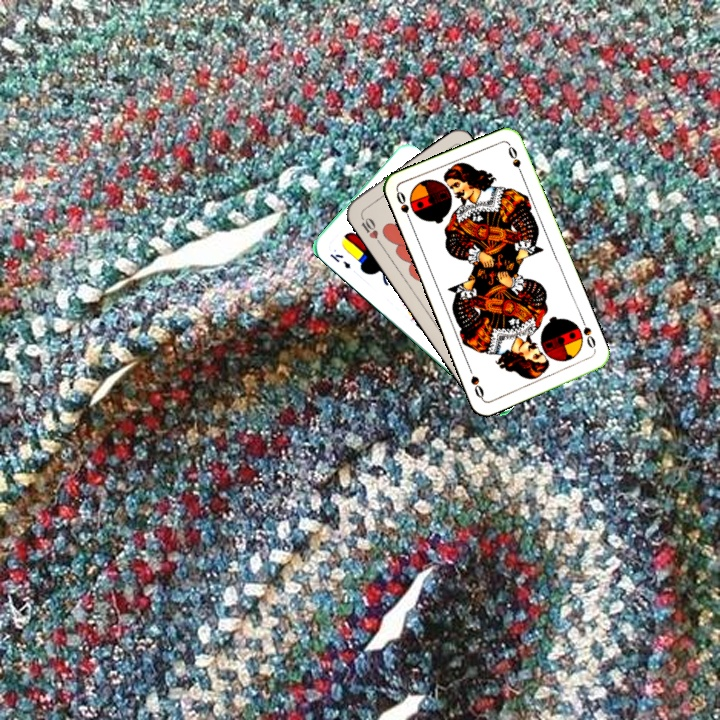EK: (326, 250, 353, 271)
H10: (356, 211, 384, 247)
SO: (392, 187, 414, 226), (579, 323, 599, 355)
